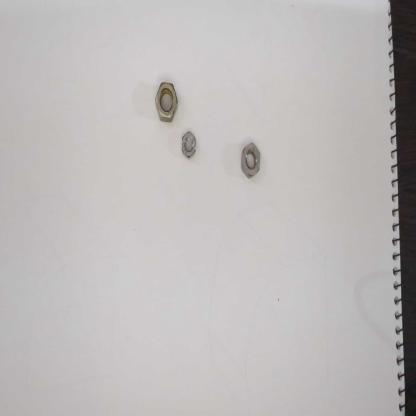NUTS: (150, 70, 180, 123), (240, 140, 267, 179), (181, 128, 196, 160)
